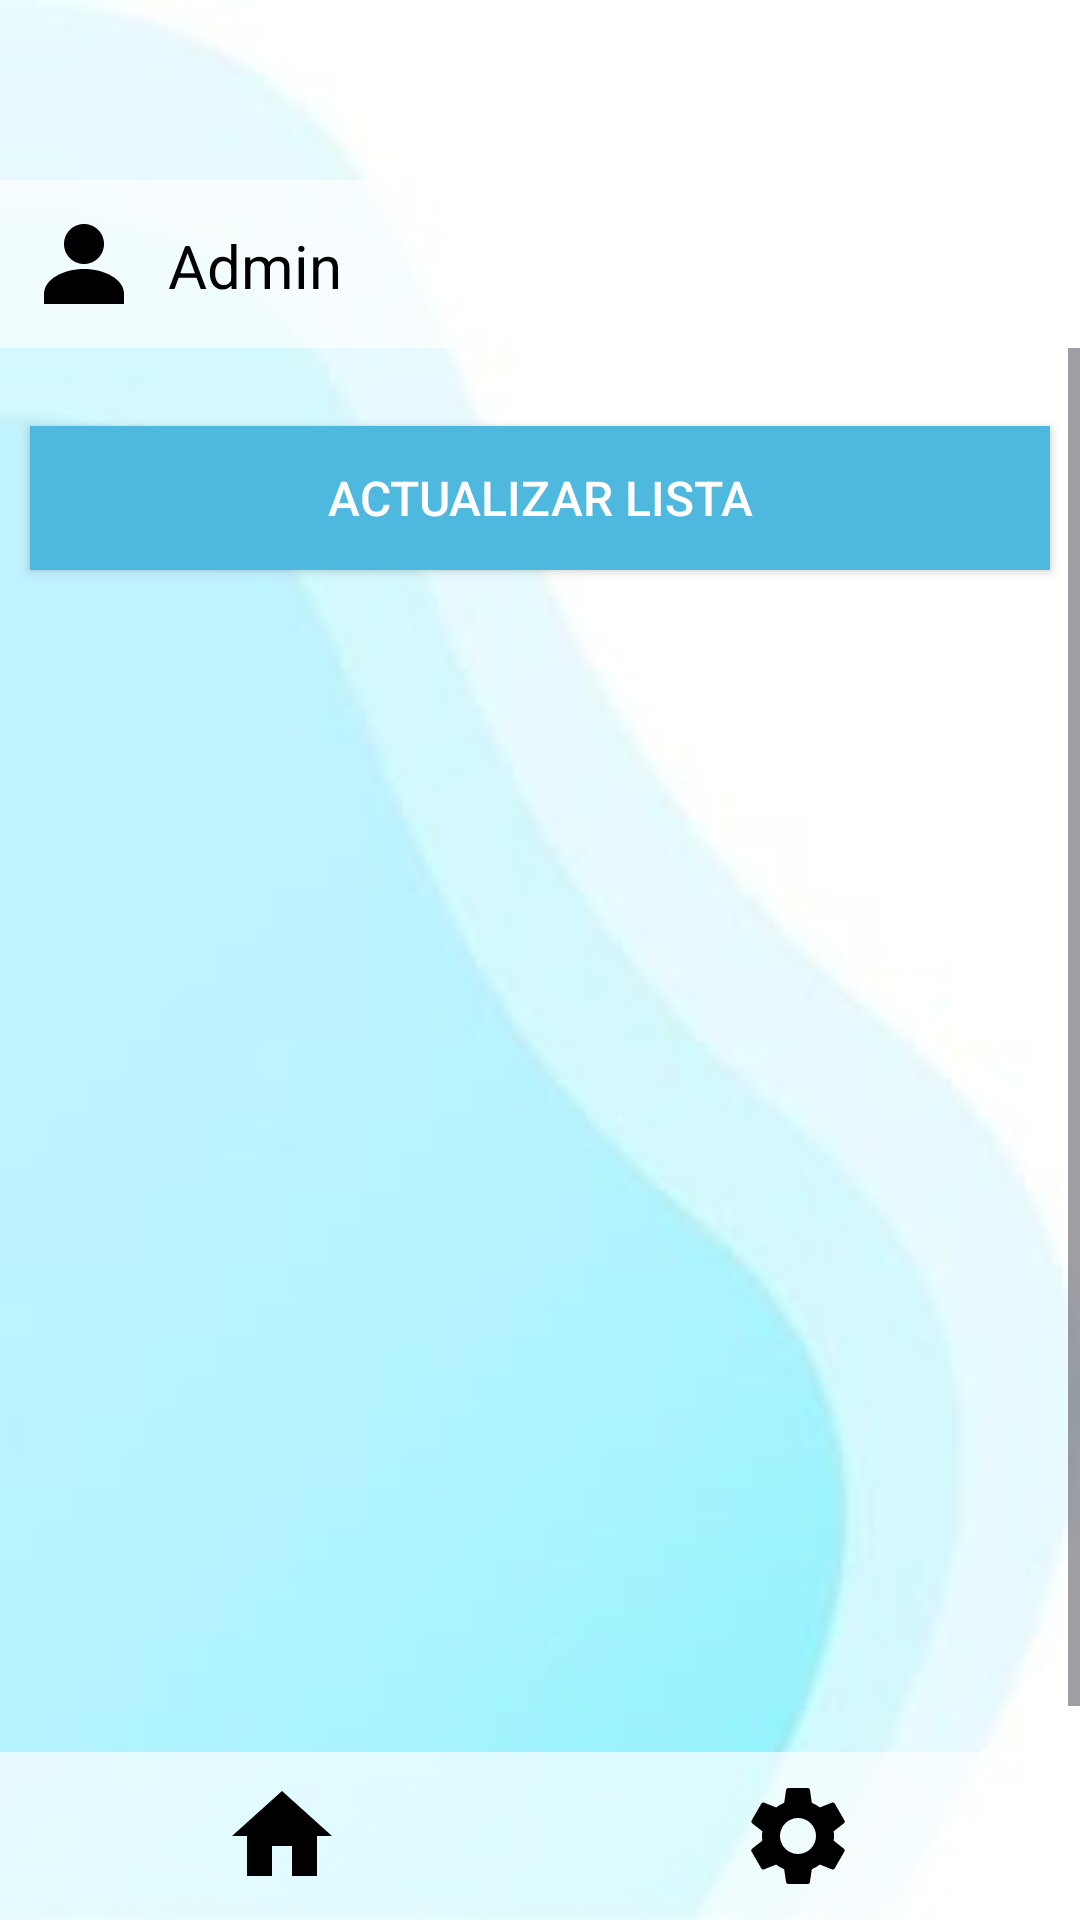

Icon bounding boxes for this 1080px×1920px phone screenshot, format (x1, y1, x2, y2):
home: (232, 1791, 332, 1876)
profile: (44, 224, 124, 304)
